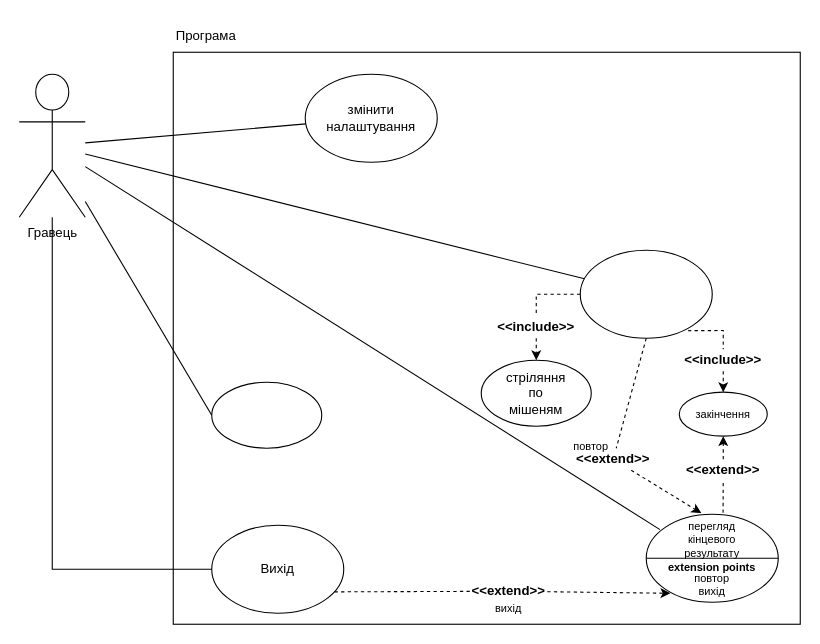
Image size: 820x644. Some labels were removed from this diagram. The box of each missing label's shape, as (x1, y1, x2, y2) in pixels:
грати в качине полювання: (579, 249, 712, 338)
перегляд життів та очків: (211, 381, 322, 448)
